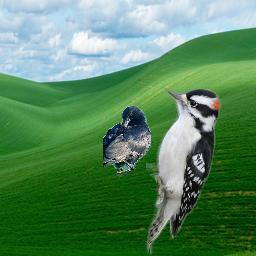Crow: (103, 106, 151, 176)
Woodpecker: (146, 81, 227, 255)
